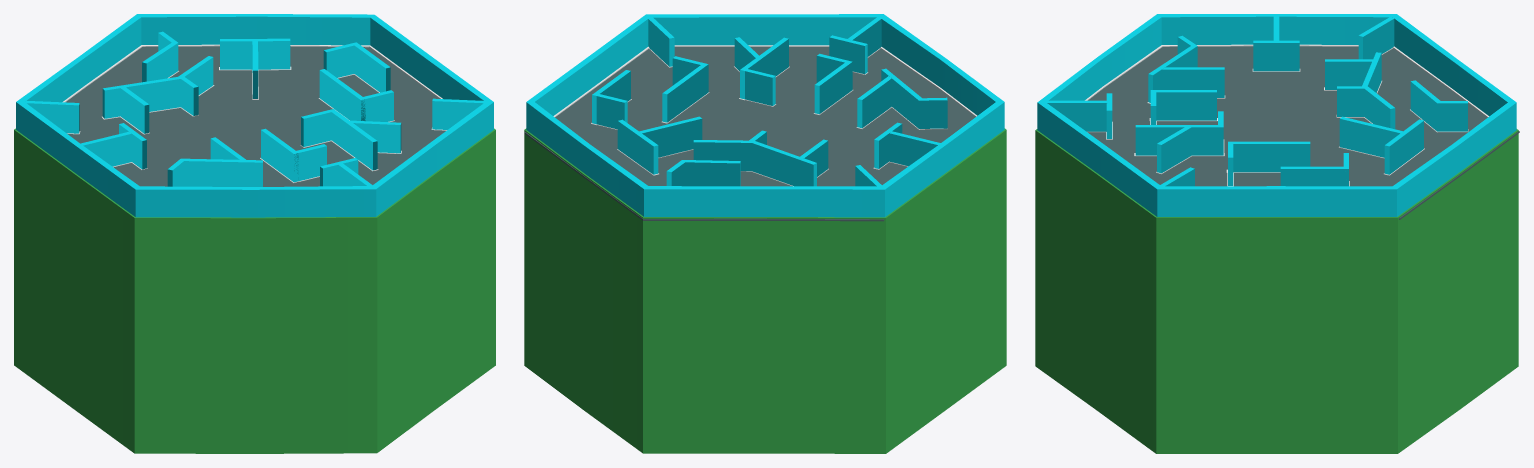
Rendered from Level_11.FBX.
The picture shows the model from 3 angles, left to right: view 1: azimuth 30°, elevation 25°; view 2: azimuth 150°, elevation 25°; view 3: azimuth 270°, elevation 25°; orthographic projection.
Visible parts, largest first — view 1: Level_11; view 2: Level_11; view 3: Level_11.
Part boxes in pixels (x1=…): Level_11: x1=14, y1=14, x2=495, y2=453; Level_11: x1=524, y1=14, x2=1006, y2=453; Level_11: x1=1035, y1=14, x2=1519, y2=453.
Size of the model in its own units: 247 by 172 by 285.
